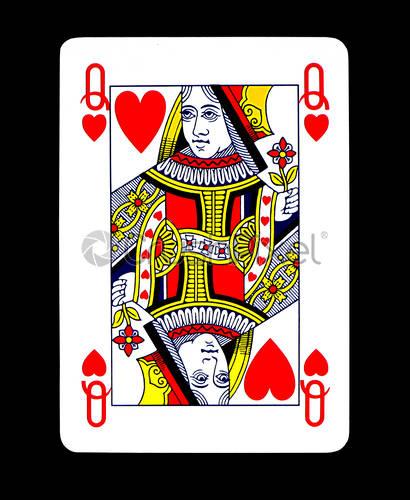queen of hearts: (58, 36, 347, 450)
